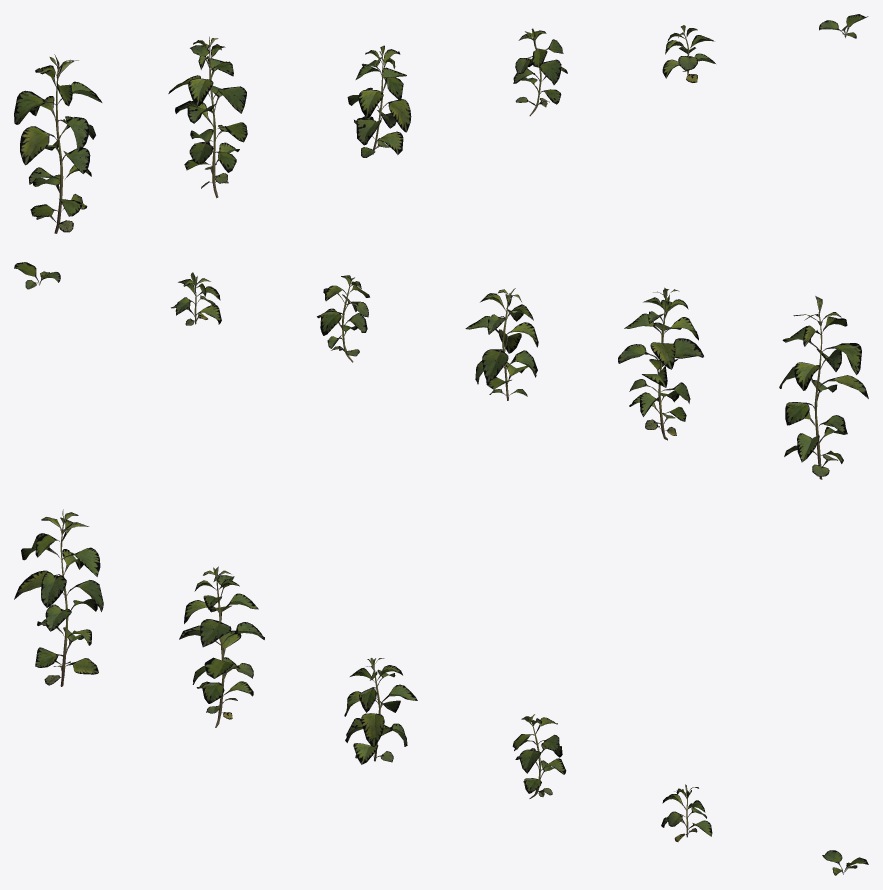
File: nettle_plant.glb
3 renders of one model, top to bottom at view 1: azimuth 30°, elevation 25°; view 2: azimuth 150°, elevation 25°; view 3: azimuth 330°, elevation 25°, orthographic.
Visible parts, largest first — view 1: nettle_plant_tall_a_LOD0, nettle_plant_tall_b_LOD0, nettle_plant_medium_a_LOD0, nettle_plant_medium_b_LOD0, nettle_plant_small_a_LOD0; view 2: nettle_plant_tall_a_LOD0, nettle_plant_tall_b_LOD0, nettle_plant_medium_a_LOD0, nettle_plant_medium_b_LOD0, nettle_plant_small_a_LOD0, nettle_plant_small_b_LOD0; view 3: nettle_plant_tall_a_LOD0, nettle_plant_tall_b_LOD0, nettle_plant_medium_a_LOD0, nettle_plant_medium_b_LOD0, nettle_plant_small_a_LOD0.
Boxes of the visible parts, <box> form: nettle_plant_tall_a_LOD0: <box>14,54,102,233</box>; nettle_plant_tall_b_LOD0: <box>168,36,247,198</box>; nettle_plant_medium_a_LOD0: <box>347,45,411,157</box>; nettle_plant_medium_b_LOD0: <box>513,28,567,116</box>; nettle_plant_small_a_LOD0: <box>662,25,715,82</box>; nettle_plant_tall_a_LOD0: <box>779,296,868,479</box>; nettle_plant_tall_b_LOD0: <box>618,287,703,440</box>; nettle_plant_medium_a_LOD0: <box>465,288,538,400</box>; nettle_plant_medium_b_LOD0: <box>317,275,369,362</box>; nettle_plant_small_a_LOD0: <box>171,272,221,325</box>; nettle_plant_small_b_LOD0: <box>14,262,60,289</box>; nettle_plant_tall_a_LOD0: <box>14,509,103,686</box>; nettle_plant_tall_b_LOD0: <box>179,566,264,727</box>; nettle_plant_medium_a_LOD0: <box>344,658,417,764</box>; nettle_plant_medium_b_LOD0: <box>512,714,566,798</box>; nettle_plant_small_a_LOD0: <box>661,784,712,841</box>.
Size of the model in its own units: 1.08 by 0.2183 by 0.0947.
Materials: 1 (1 with a texture image).
